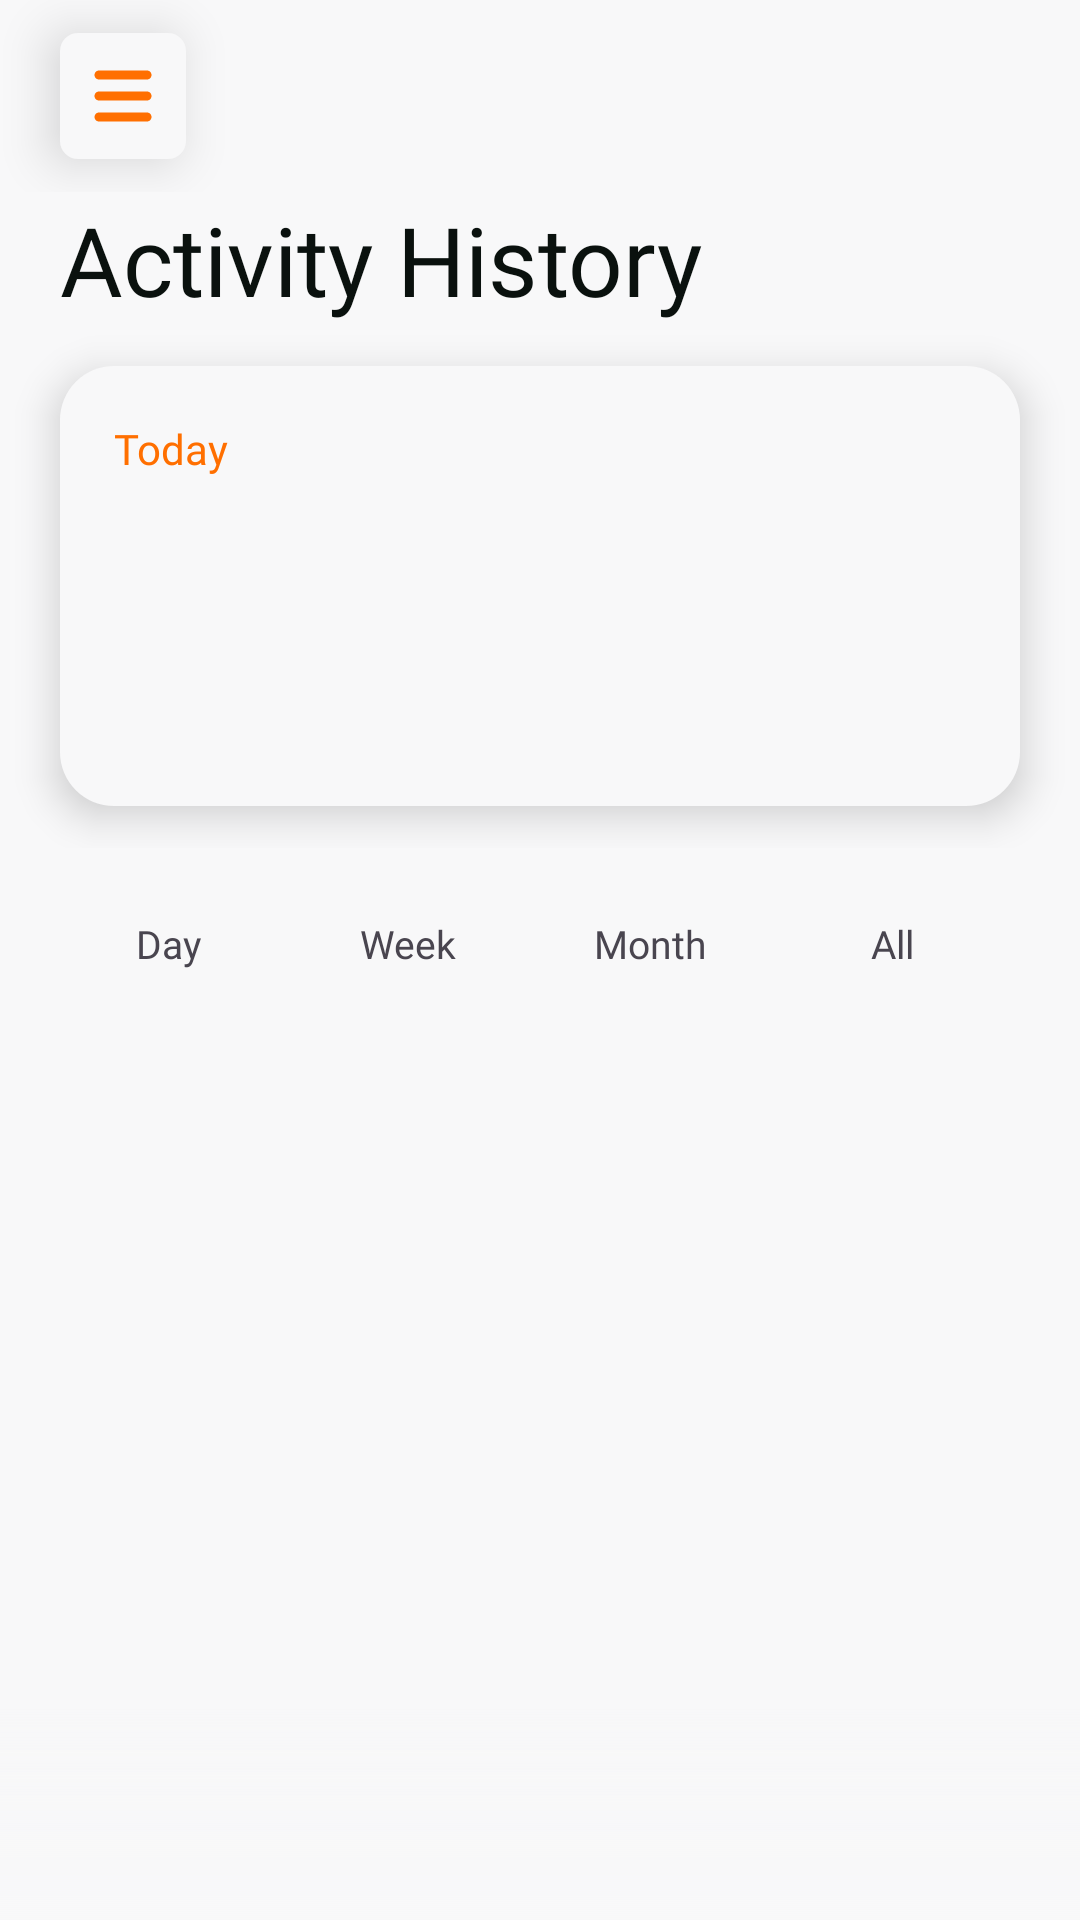

Icons on this 1080*1920 Android screen, each with the point to tap as (x,y):
menu: (123,96)
